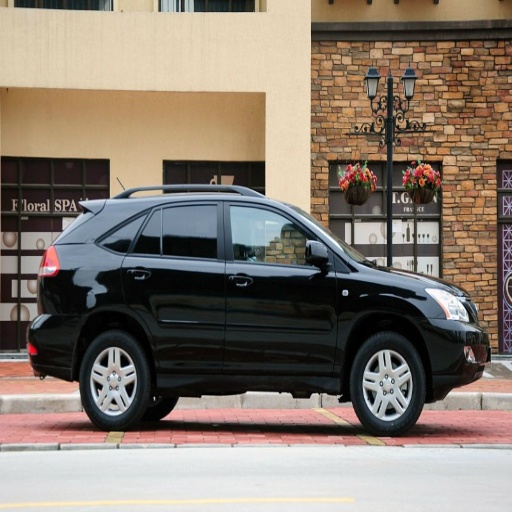back_left_light: (123, 194, 224, 371)
back_right_light: (426, 324, 468, 373)
front_left_light: (225, 196, 337, 367)
front_right_door: (431, 288, 469, 322)
trunk: (81, 325, 173, 429), (351, 331, 426, 433)
